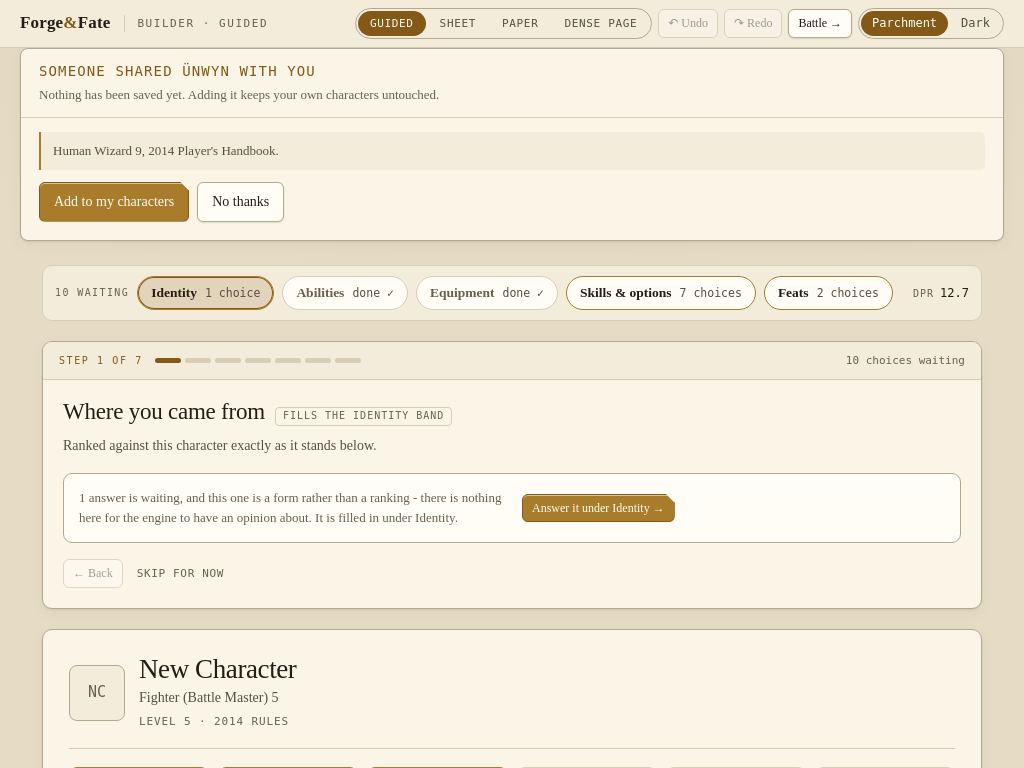
Test: arriving on a share link › writes nothing to the roster until the character is accepted
What coordinates should you click on to do the following:
click the button "No thanks"
I would click on:
 (241, 202)
Its box is 197,182 -> 284,222.
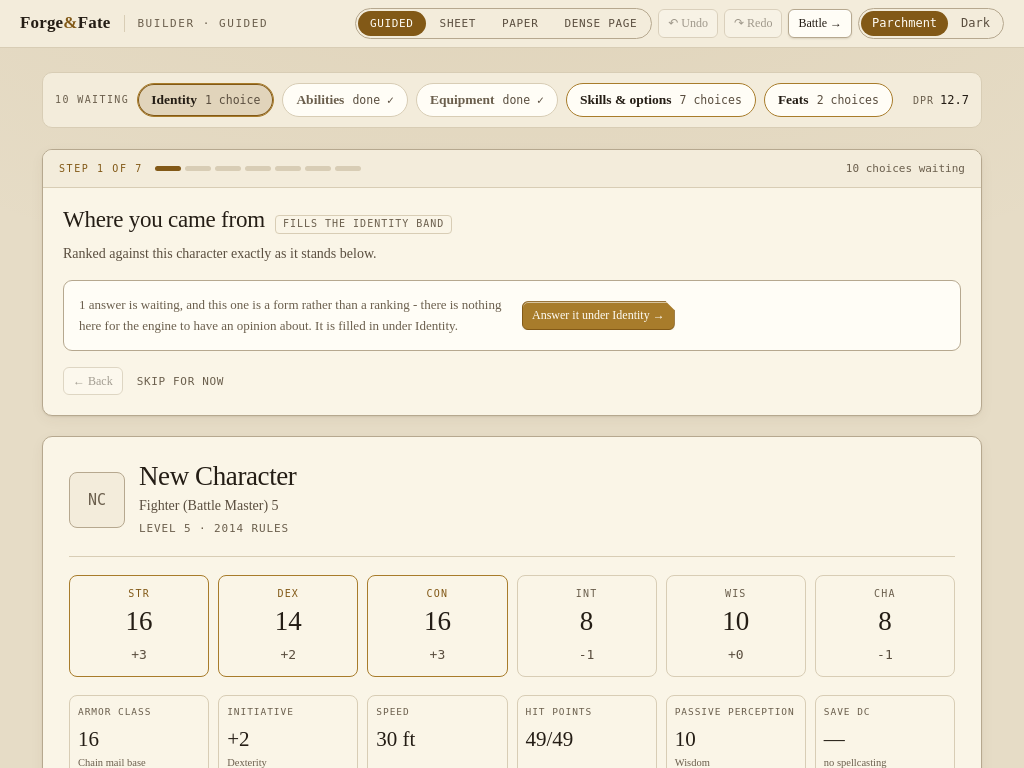
Result: the heading "Someone shared" is gone
